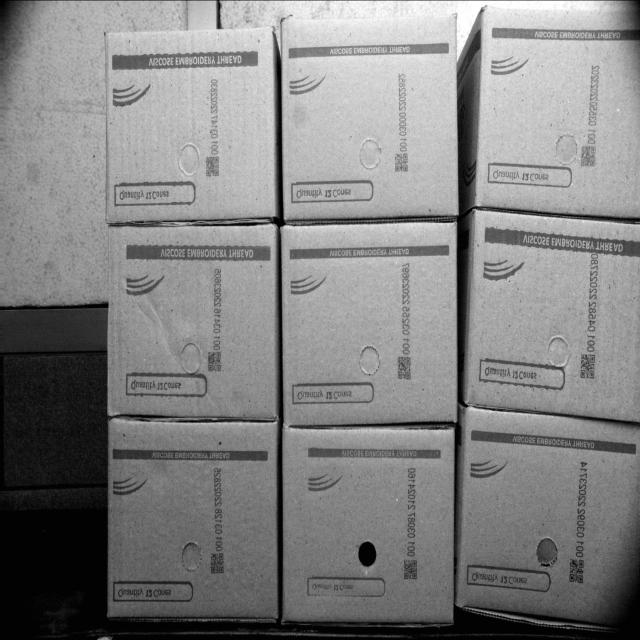cardboxes: (461, 406, 640, 619), (285, 9, 458, 218), (468, 212, 640, 420), (280, 225, 460, 421), (104, 424, 282, 618), (478, 8, 640, 216), (283, 425, 458, 617), (103, 227, 279, 416), (108, 30, 274, 222)
